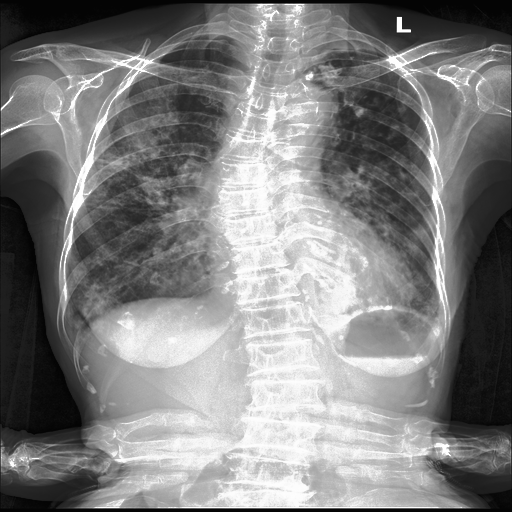Calcification: (302, 34, 383, 54), (64, 304, 91, 351), (417, 305, 443, 329), (433, 297, 446, 333)
Cardiomegaly: (56, 106, 216, 319), (313, 62, 440, 313)
Consolidation: (284, 80, 339, 141)
ILD: (61, 72, 233, 329), (313, 62, 440, 313)
Nodule/Mass: (206, 238, 411, 306)
Other lesion: (212, 112, 279, 264)
Pleural effusion: (64, 304, 91, 351), (417, 305, 443, 329), (433, 297, 446, 333)
Pleural thickening: (124, 83, 179, 156)
Pneumothorax: (56, 106, 216, 319), (299, 59, 435, 257), (118, 259, 174, 286)
